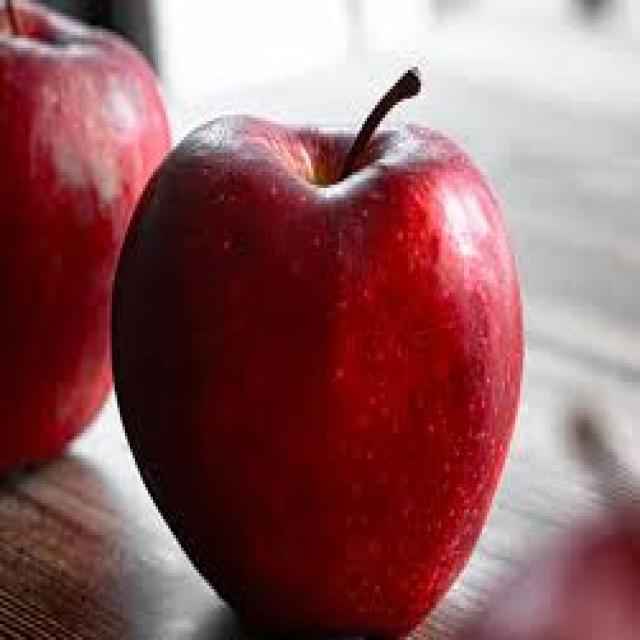apple: (109, 110, 538, 640)
